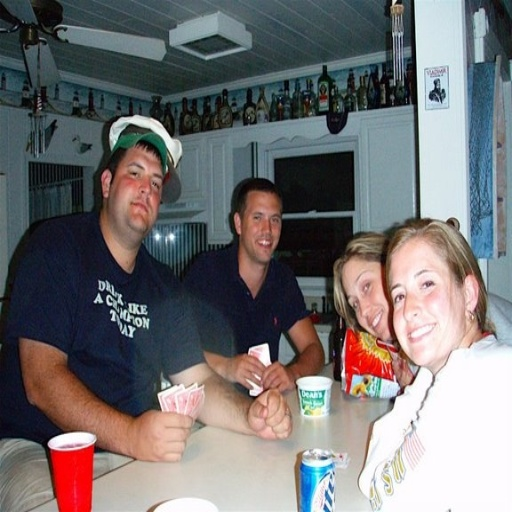hand: (114, 405, 176, 464), (247, 387, 292, 439), (224, 352, 266, 393), (260, 360, 296, 392), (389, 354, 415, 387)
